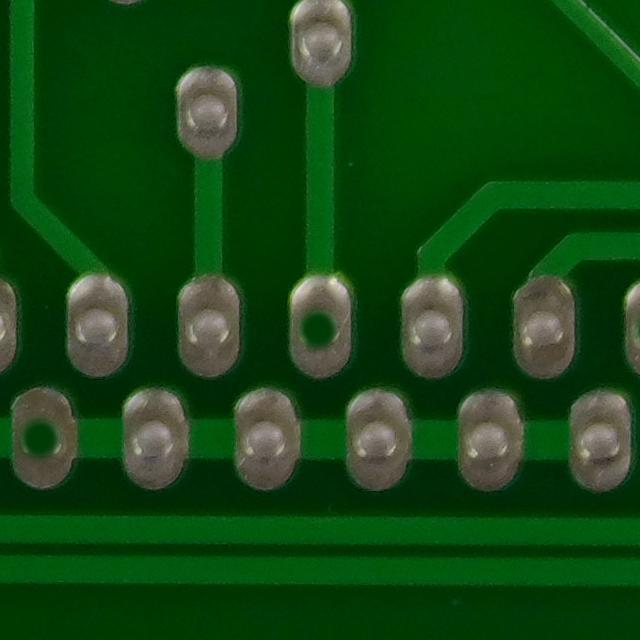missing_hole: (279, 276, 361, 364)
